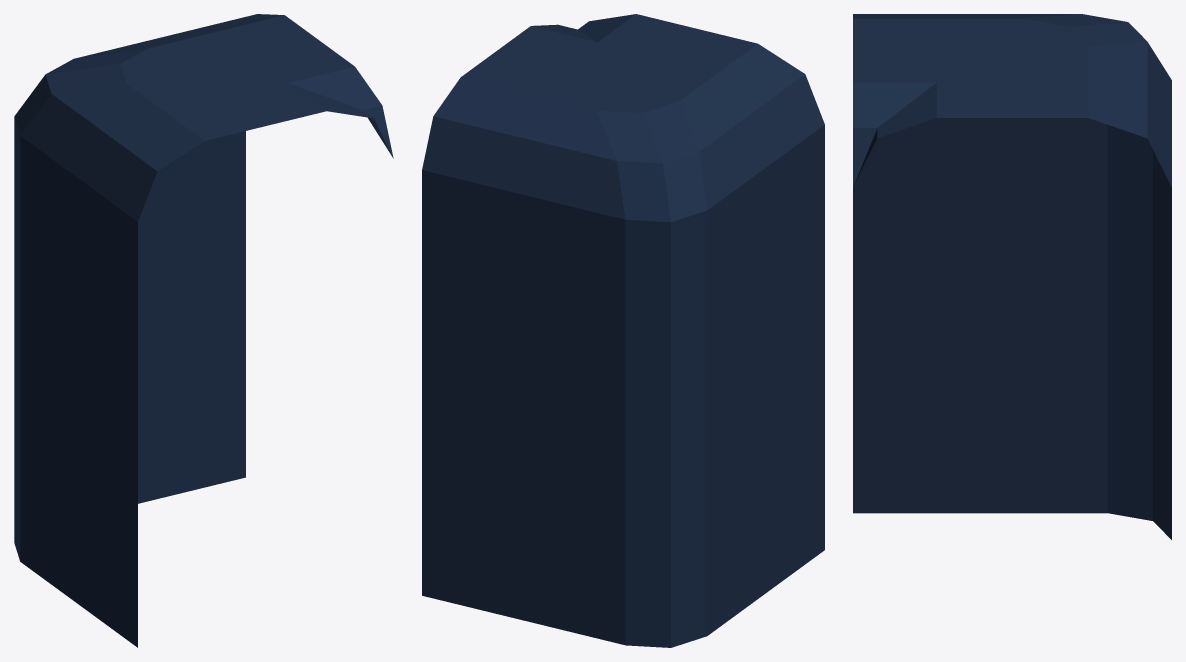
Rendered from Wall_Segment_Corner.fbx.
3 renders of one model, left to right at view 1: azimuth 30°, elevation 25°; view 2: azimuth 150°, elevation 25°; view 3: azimuth 270°, elevation 25°, orthographic. The views are drawn at different scales.
Visible parts, largest first — view 1: SmallWallCorner; view 2: SmallWallCorner; view 3: SmallWallCorner.
Part boxes in pixels (x1,y1,x2,y2): SmallWallCorner: (14,14,393,647); SmallWallCorner: (422,14,824,647); SmallWallCorner: (853,14,1171,539).
Size of the model in its own units: 30 by 55 by 30.
